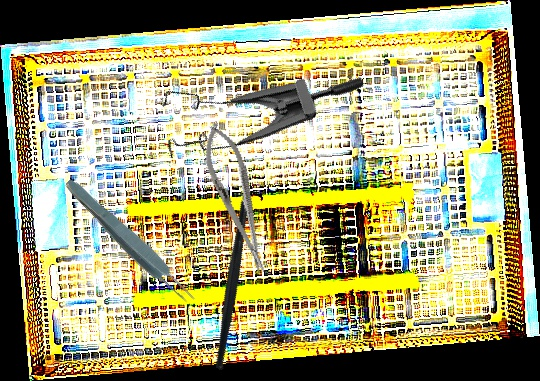Chopper: (146, 161, 315, 372)
Needle Holder: (194, 118, 279, 279)
Speculum: (139, 1, 369, 193)
Tissue Forceps: (59, 173, 200, 311)
